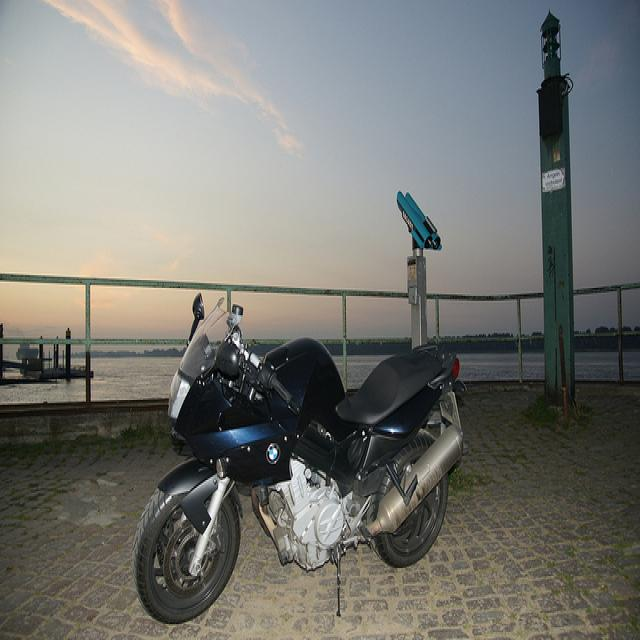motor: (132, 281, 467, 624)
